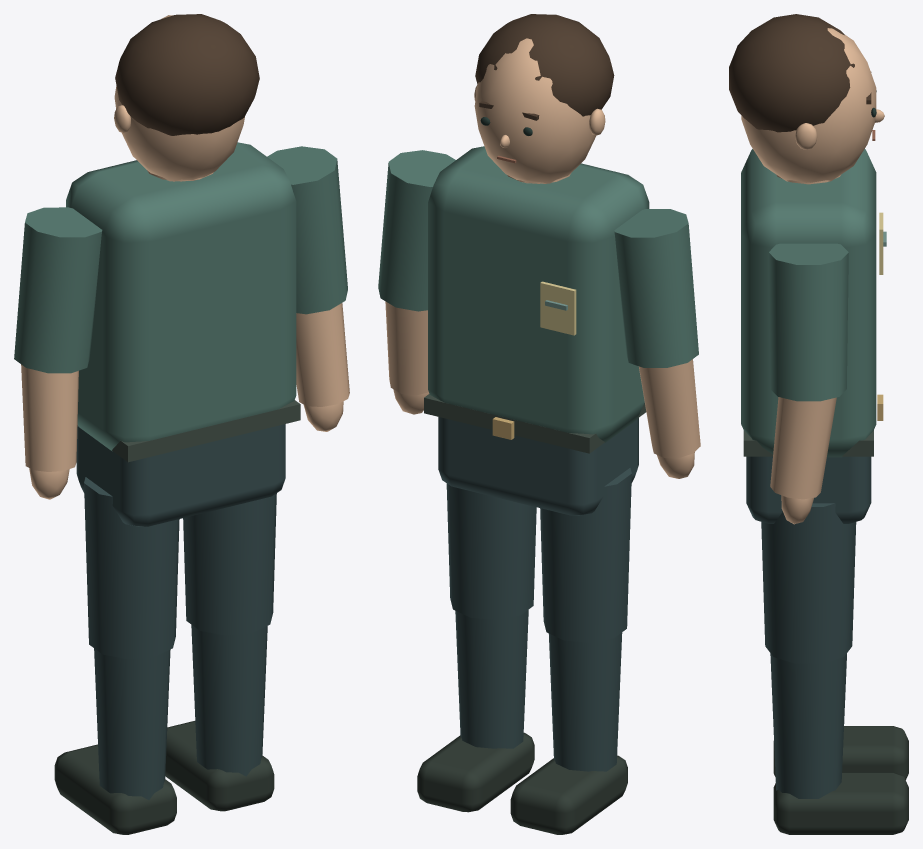
The model's file is scout-01.glb.
The picture shows the model from 3 angles, left to right: view 1: azimuth 30°, elevation 25°; view 2: azimuth 150°, elevation 25°; view 3: azimuth 270°, elevation 25°; orthographic projection. The views are drawn at different scales.
Parts seen in each view (by area): view 1: Scout character 1, left-upper-arm, right-upper-arm; view 2: Scout character 1, left-upper-arm, right-upper-arm; view 3: Scout character 1, right-upper-arm.
Boxes of the visible parts, bbox=[...] form: Scout character 1: bbox=[54, 14, 300, 834]; left-upper-arm: bbox=[14, 207, 102, 499]; right-upper-arm: bbox=[267, 146, 349, 431]; Scout character 1: bbox=[417, 14, 649, 834]; left-upper-arm: bbox=[614, 209, 700, 478]; right-upper-arm: bbox=[378, 150, 455, 414]; Scout character 1: bbox=[729, 14, 908, 834]; right-upper-arm: bbox=[768, 243, 848, 524].
Size of the model in its own units: 0.7284 by 1.72 by 0.3591.
